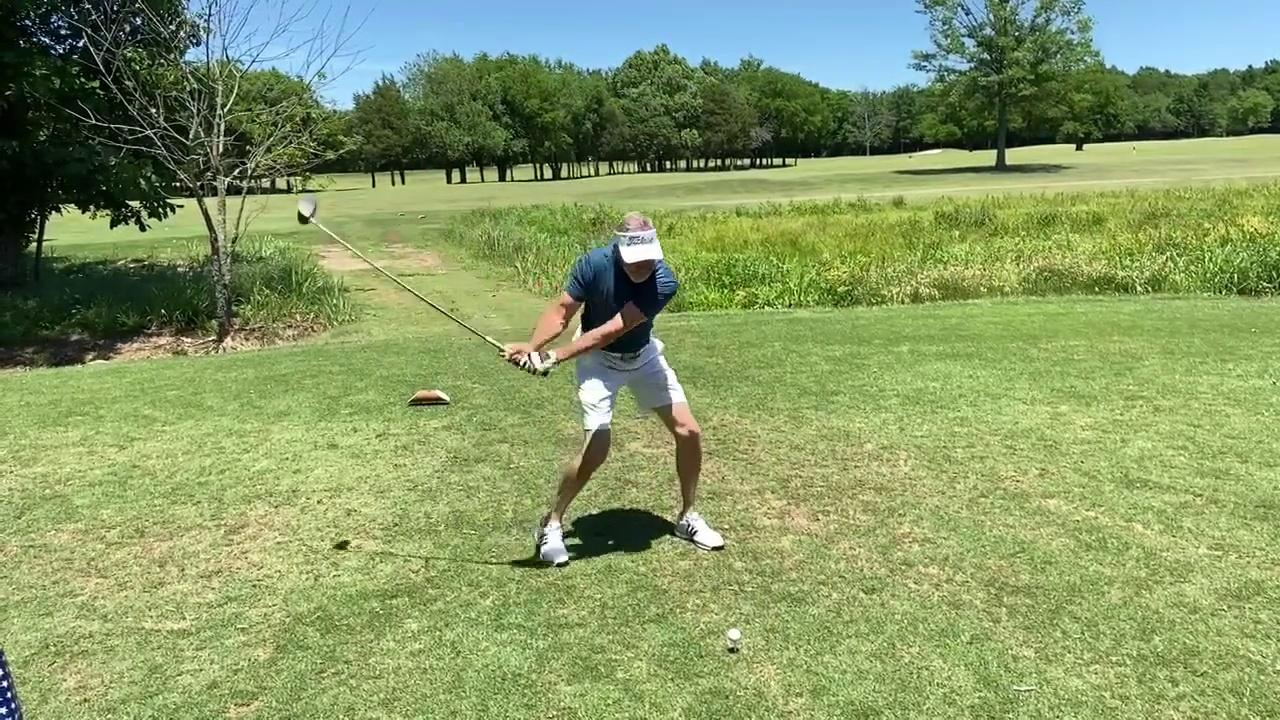ClubHead: (292, 197, 326, 232)
GolfBall: (726, 628, 744, 642)
